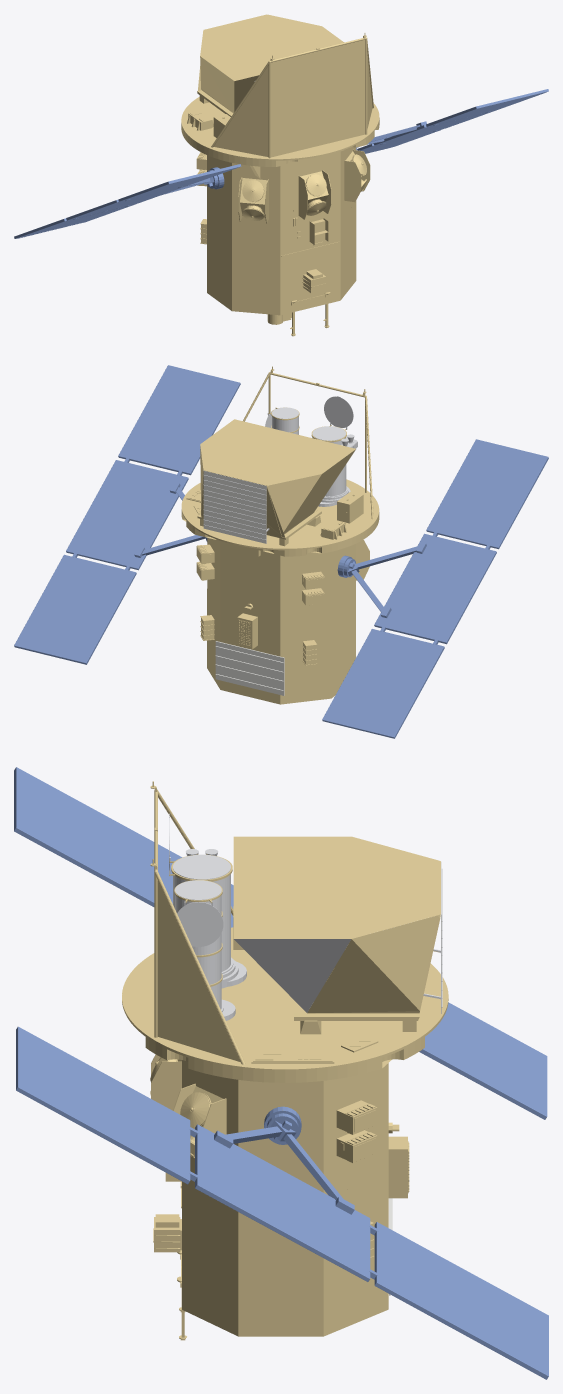
Rendered from swift.glb.
3 views of the same model, one above another, from view 1: azimuth 30°, elevation 25°; view 2: azimuth 150°, elevation 25°; view 3: azimuth 270°, elevation 25° (orthographic). The views are drawn at different scales.
Visible parts, largest first — view 1: body, solar; view 2: solar, body, radiator, telescopes; view 3: body, solar, telescopes.
Boxes of the visible parts, <box> form: body: <box>181,14,379,336</box>; solar: <box>14,89,548,238</box>; solar: <box>14,365,548,738</box>; body: <box>181,366,379,704</box>; radiator: <box>203,471,284,695</box>; telescopes: <box>203,396,357,540</box>; body: <box>122,781,448,1340</box>; solar: <box>14,767,548,1379</box>; telescopes: <box>169,813,442,1020</box>.
Size of the model in its own units: 39.92 by 29.44 by 28.26.
